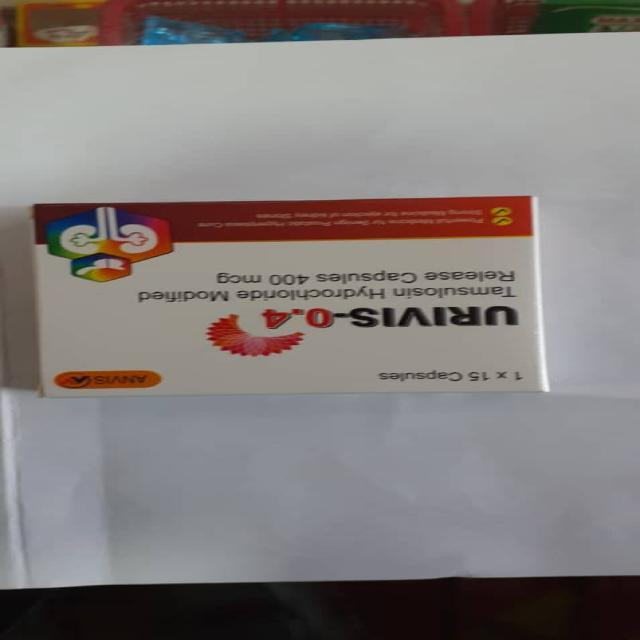drug-name: (258, 305, 522, 328)
